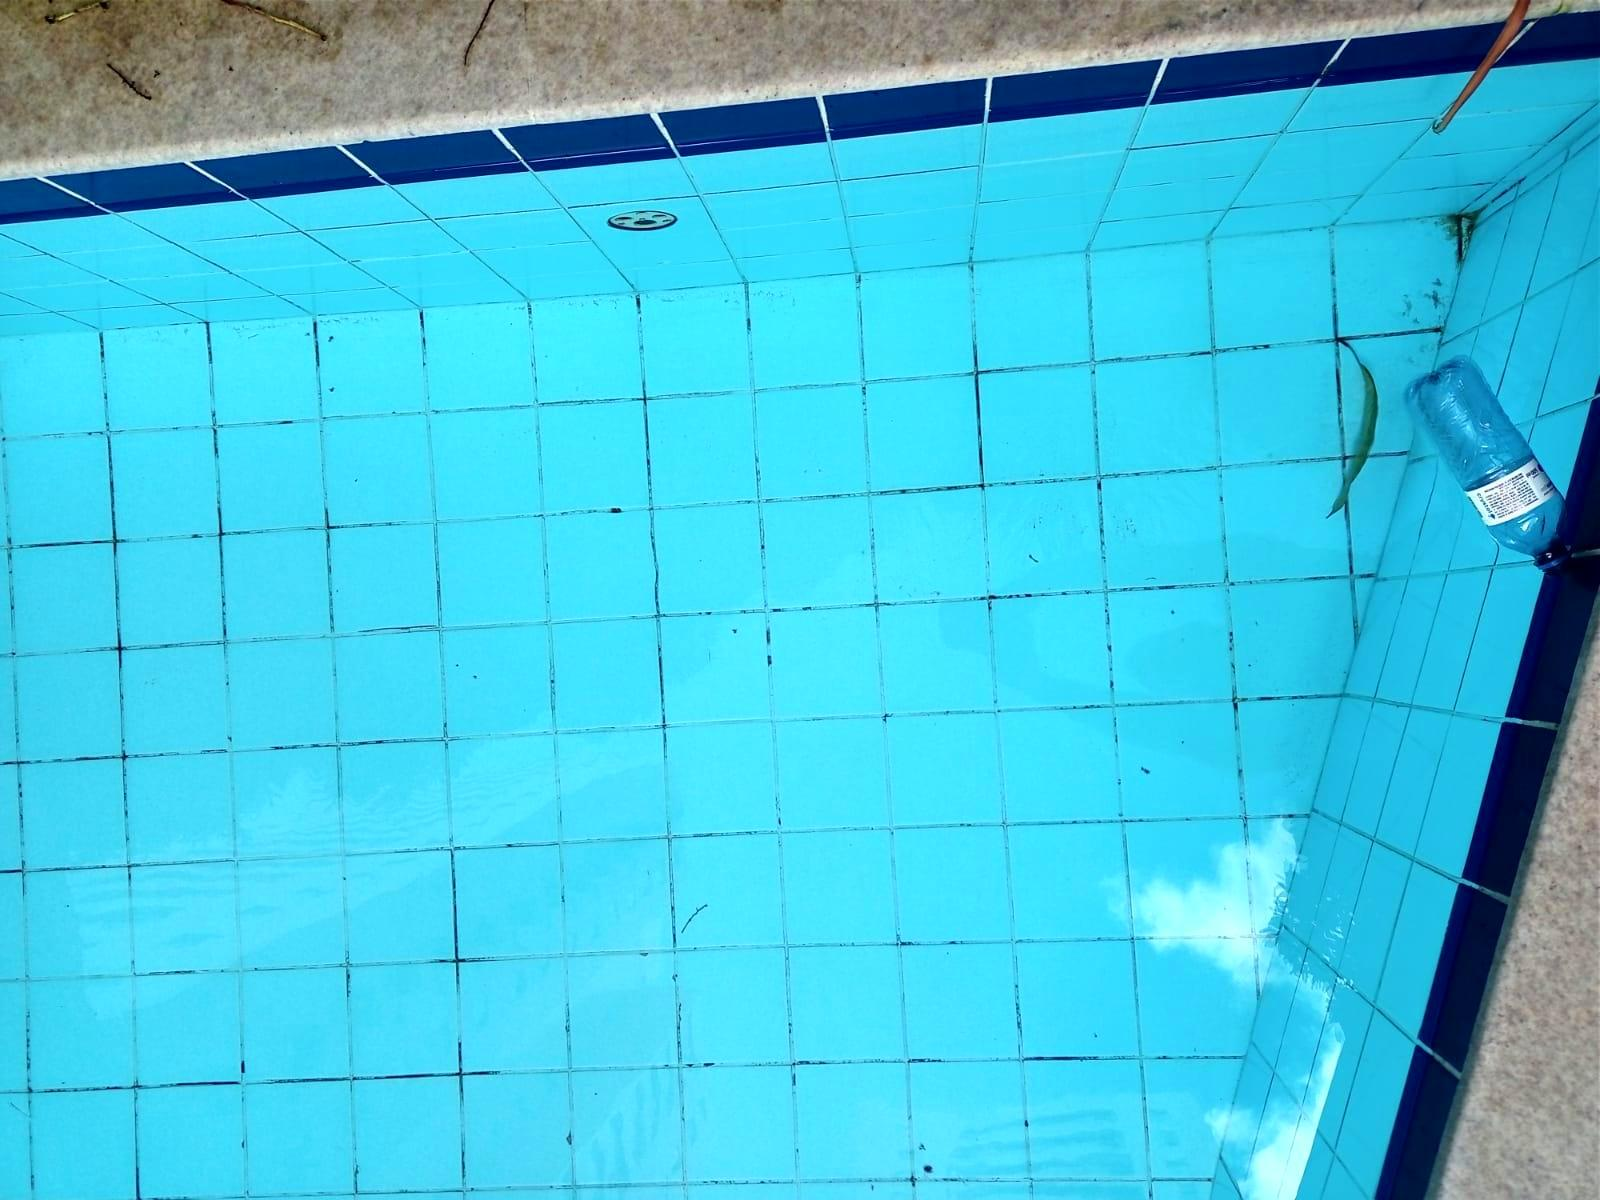Plastic: (1338, 306, 1567, 586)
